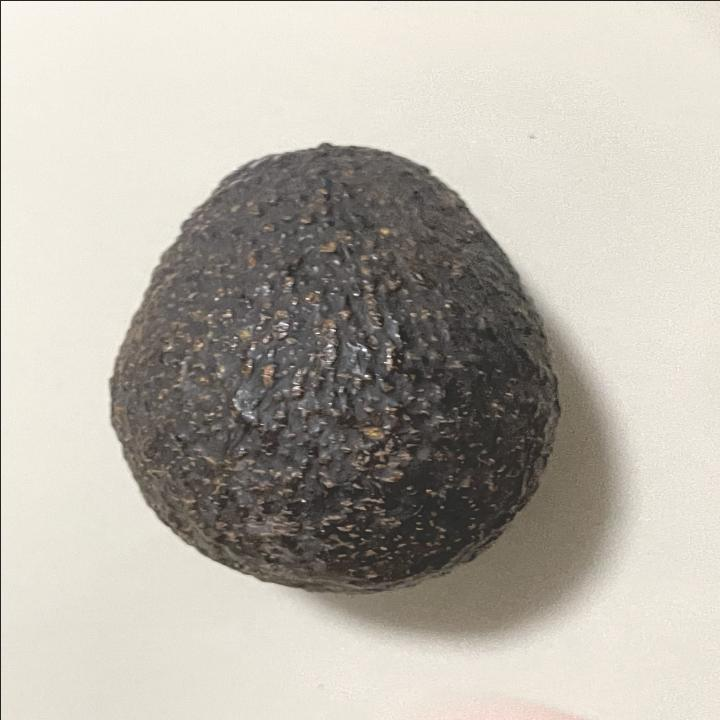Level2: (100, 135, 568, 602)
